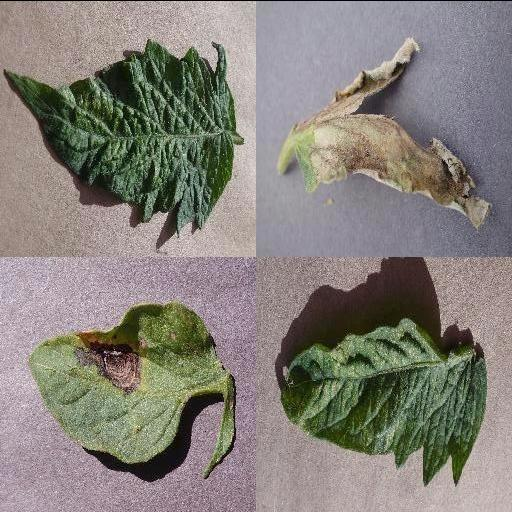Early Blight: (27, 299, 225, 463)
Late Blight: (292, 35, 496, 231)
Spider Mites: (4, 40, 234, 236), (278, 316, 486, 486)
